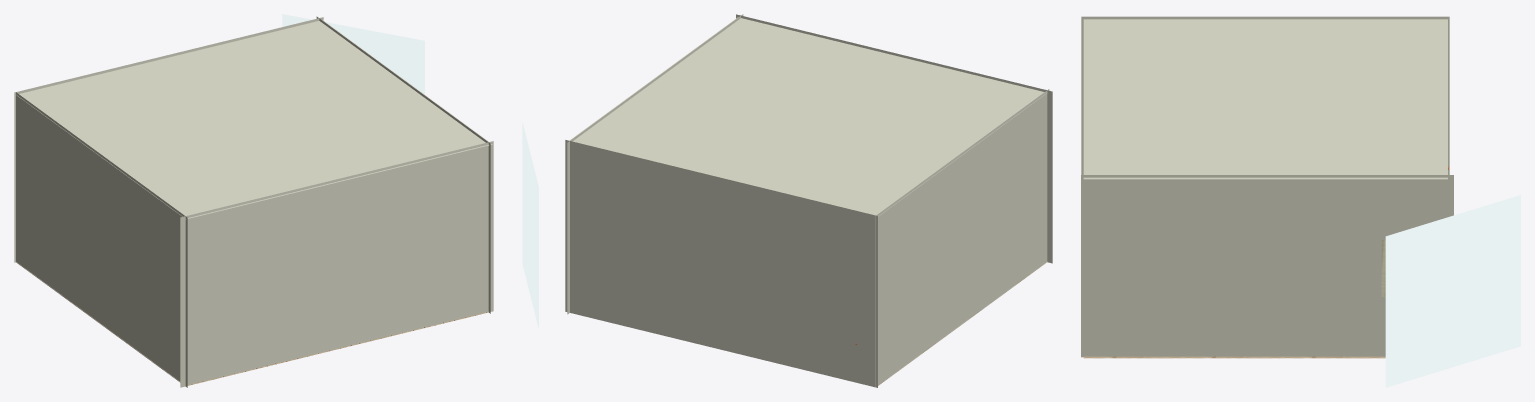
The model's file is world.glb.
3 renders of one model, left to right at view 1: azimuth 30°, elevation 25°; view 2: azimuth 150°, elevation 25°; view 3: azimuth 270°, elevation 25°, orthographic. The views are drawn at different scales.
Visible parts, largest first — view 1: Plane.003, Sol.001, Plane.002, Plane.007, Plane, Plane.001, Sol; view 2: Plane, Sol.001, Plane.002, Plane.007, Plane.003, Plane.001; view 3: Plane.001, Sol.001, Plane.007, Plane.002, Sol.
Part boxes in pixels (bbox=[...]): Plane.003: bbox=[180, 141, 493, 387]; Sol.001: bbox=[17, 20, 492, 218]; Plane.002: bbox=[16, 92, 187, 387]; Plane.007: bbox=[282, 14, 424, 94]; Plane: bbox=[14, 17, 323, 262]; Plane.001: bbox=[316, 16, 490, 313]; Sol: bbox=[16, 262, 492, 385]; Plane: bbox=[565, 140, 877, 387]; Sol.001: bbox=[569, 17, 1046, 216]; Plane.002: bbox=[875, 89, 1049, 387]; Plane.007: bbox=[522, 121, 538, 329]; Plane.003: bbox=[736, 14, 1052, 263]; Plane.001: bbox=[567, 14, 743, 314]; Plane.001: bbox=[1081, 175, 1453, 357]; Sol.001: bbox=[1083, 19, 1447, 179]; Plane.007: bbox=[1385, 195, 1520, 387]; Plane.002: bbox=[1081, 16, 1449, 174]; Sol: bbox=[1083, 241, 1385, 358].
Size of the model in its own units: 156 by 66.59 by 144.
Materials: 37 (9 with a texture image).
